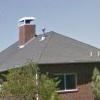Chimney: (12, 9, 34, 53)
